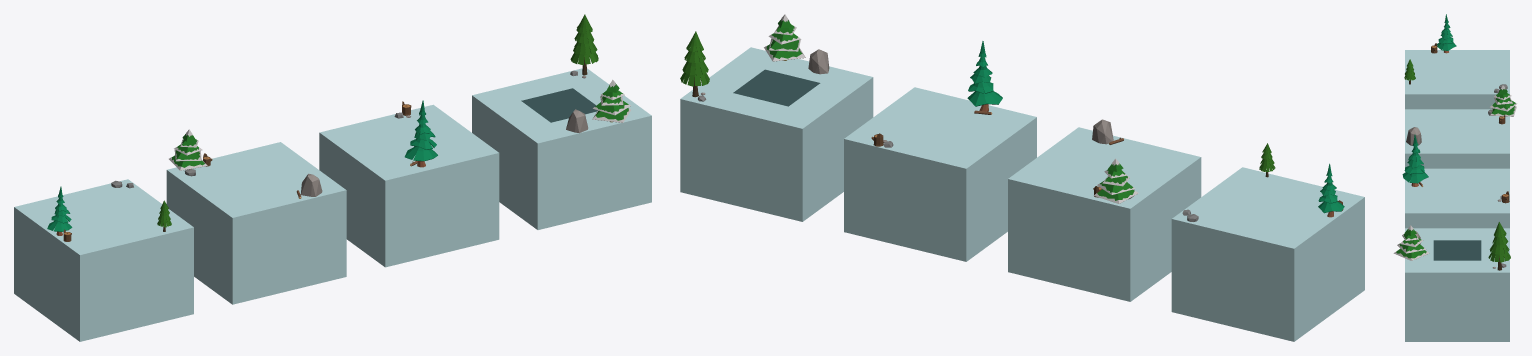
The model's file is zona2 1.fbx.
3 renders of one model, left to right at view 1: azimuth 30°, elevation 25°; view 2: azimuth 150°, elevation 25°; view 3: azimuth 270°, elevation 25°, orthographic. The views are drawn at different scales.
Visible parts, largest first — view 1: zona_1, zona_2, zona_3, zona_4, tree, tree5, Tree2, tree3, tree4; view 2: zona_1, zona_3, zona_4, zona_2, tree, tree5, Tree2, tree3, tree4; view 3: zona_4, zona_3, zona_1, zona_2, tree, tree5, Tree2, tree3, tree4, Rock4, tree6.
Boxes of the visible parts, left/top/right/bottom form: zona_1: left=14, top=179, right=193, bottom=341; zona_2: left=166, top=142, right=346, bottom=304; zona_3: left=319, top=104, right=499, bottom=267; zona_4: left=472, top=68, right=651, bottom=229; tree: left=592, top=79, right=630, bottom=122; tree5: left=404, top=100, right=437, bottom=167; Tree2: left=570, top=14, right=598, bottom=75; tree3: left=169, top=129, right=207, bottom=170; tree4: left=47, top=186, right=72, bottom=235; zona_1: left=1171, top=167, right=1364, bottom=341; zona_3: left=844, top=87, right=1036, bottom=261; zona_4: left=680, top=47, right=873, bottom=221; zona_2: left=1008, top=127, right=1201, bottom=301; tree: left=764, top=14, right=805, bottom=61; tree5: left=967, top=41, right=1002, bottom=111; Tree2: left=680, top=31, right=709, bottom=97; tree3: left=1093, top=158, right=1138, bottom=203; tree4: left=1318, top=163, right=1344, bottom=217; zona_4: left=1405, top=228, right=1509, bottom=341; zona_3: left=1405, top=168, right=1509, bottom=228; zona_1: left=1405, top=50, right=1509, bottom=109; zona_2: left=1405, top=109, right=1509, bottom=168; tree: left=1393, top=225, right=1429, bottom=260; tree5: left=1402, top=134, right=1428, bottom=186; Tree2: left=1488, top=222, right=1510, bottom=270; tree3: left=1489, top=85, right=1517, bottom=116; tree4: left=1437, top=14, right=1456, bottom=53; Rock4: left=1406, top=127, right=1421, bottom=145; tree6: left=1404, top=59, right=1415, bottom=84.
Size of the model in its own units: 93.5 by 23.26 by 21.6.
